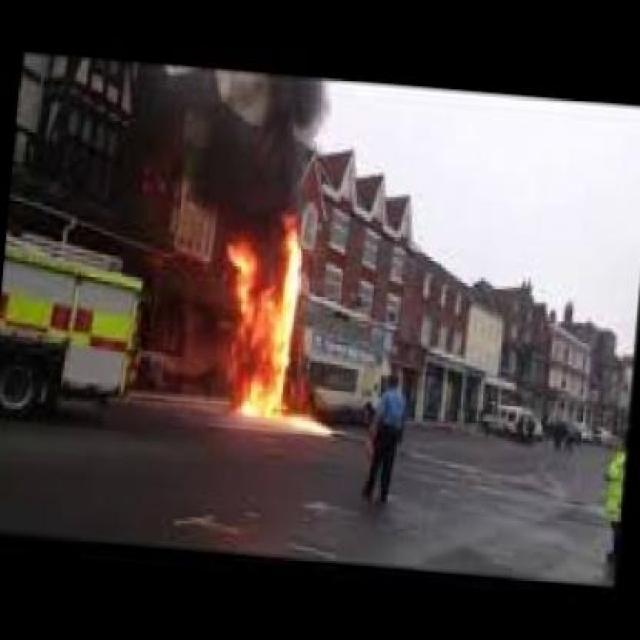Fire: (214, 204, 336, 441)
Smoke: (128, 61, 336, 218)
